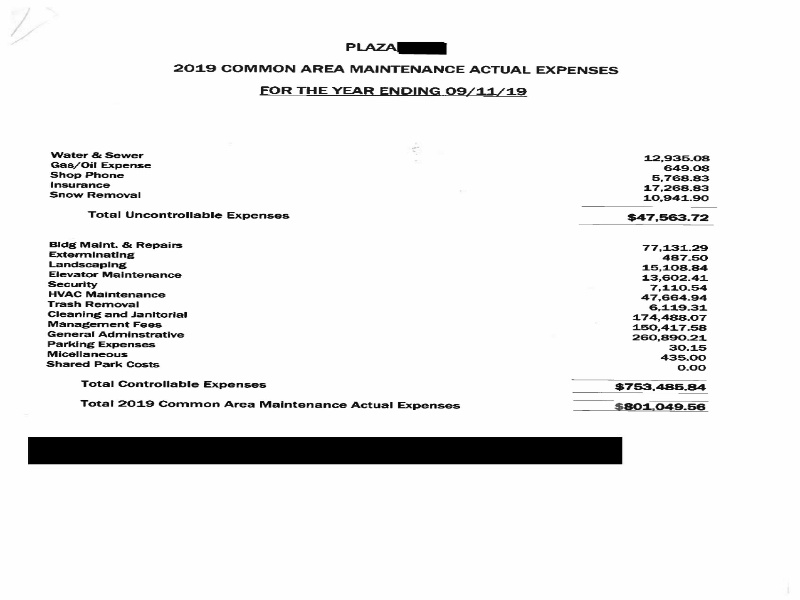table: (47, 240, 714, 418), (47, 143, 720, 235)
